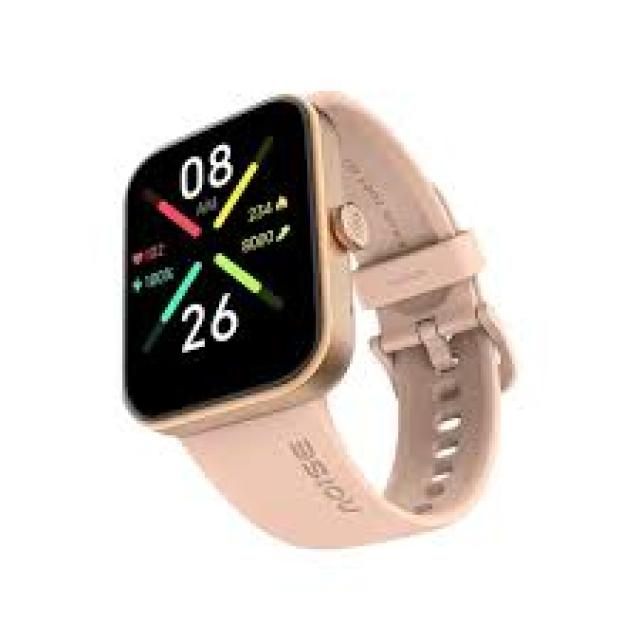objects: (125, 91, 512, 546)
